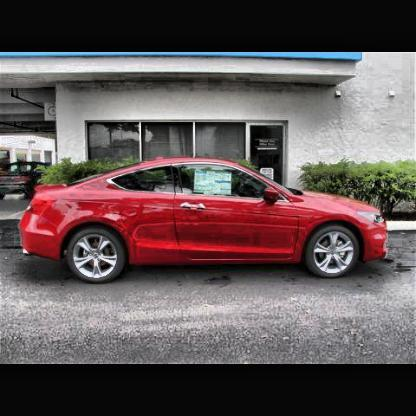Honda Accord Coupe 2012: (22, 159, 388, 285)
